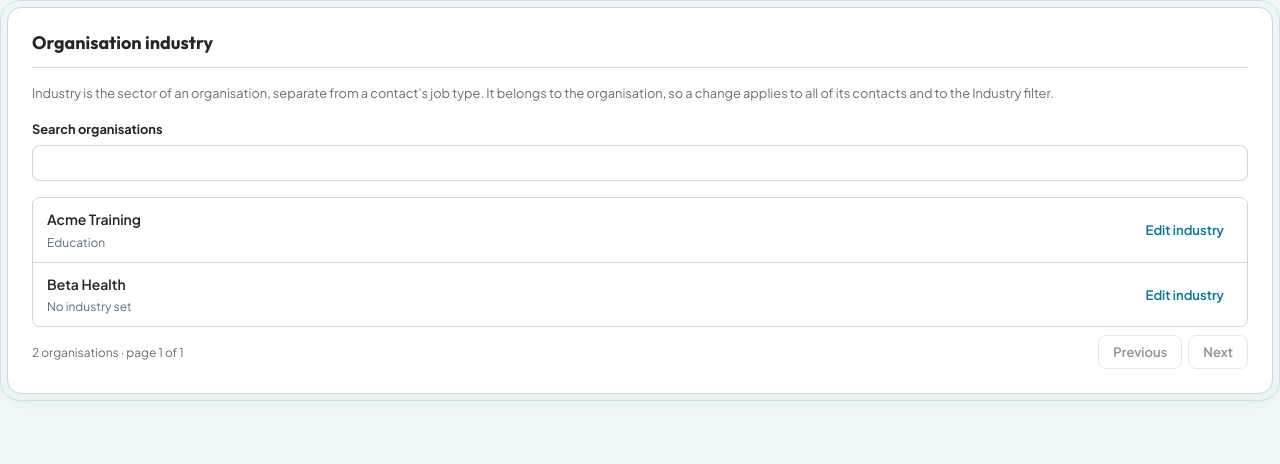
Test case: OrganisationSettings › shows a concurrent change clearly and reloads the list
The width and height of the screenshot is (1280, 464).
Click the button with aria-label "Edit industry of Acme Training": (1185, 230) [1137, 217, 1233, 243]
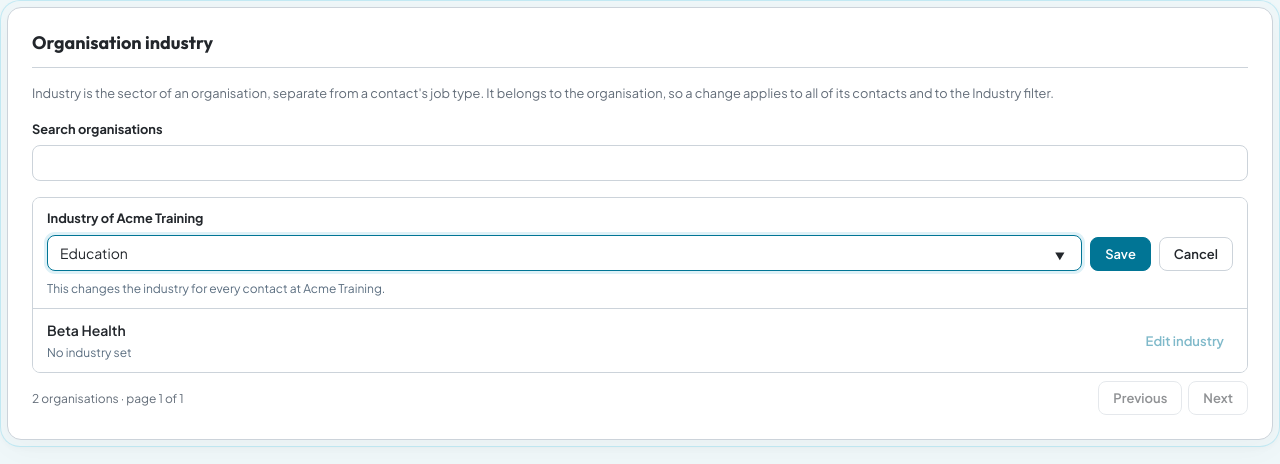
Replace the text in the field labelled "Industry of Acme Training" with "Health": (565, 253) [47, 235, 1082, 271]
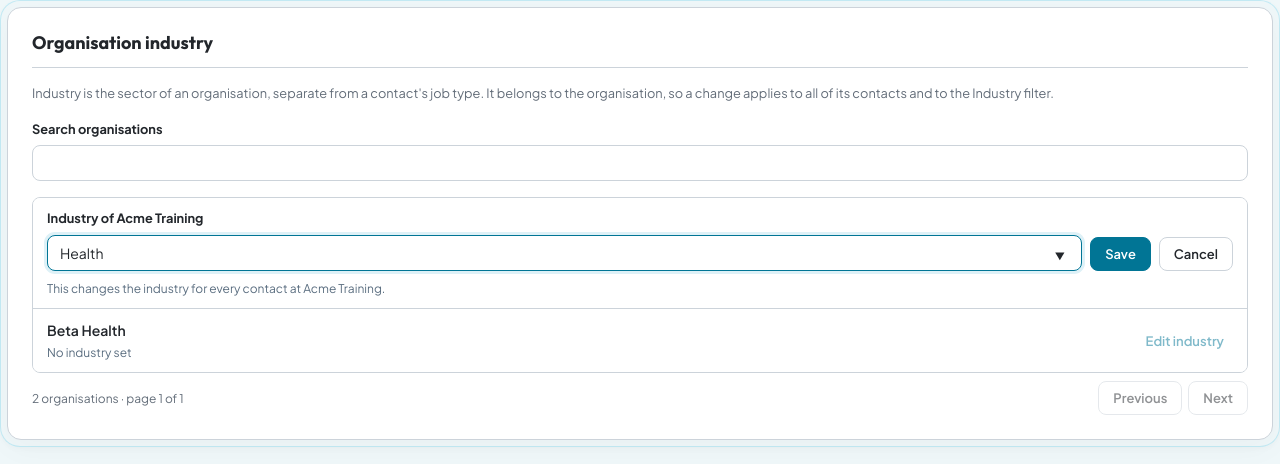
Click the button "Save": (1121, 254) [1090, 237, 1151, 271]
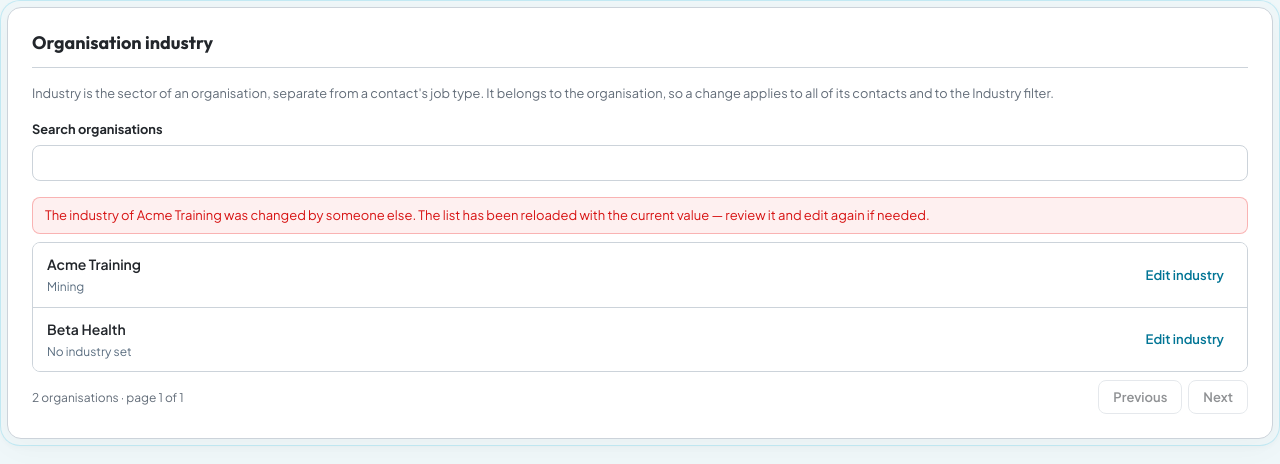
Expected: the text "Mining" is shown, [47, 279, 84, 294]
